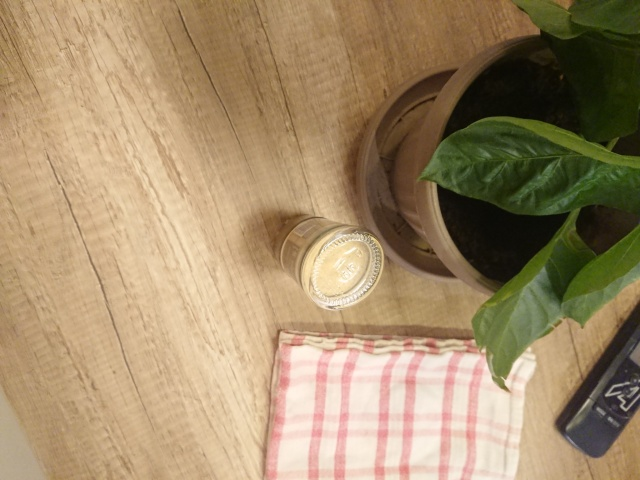Kotanyi Garlic Granules 70g: (271, 211, 387, 314)
